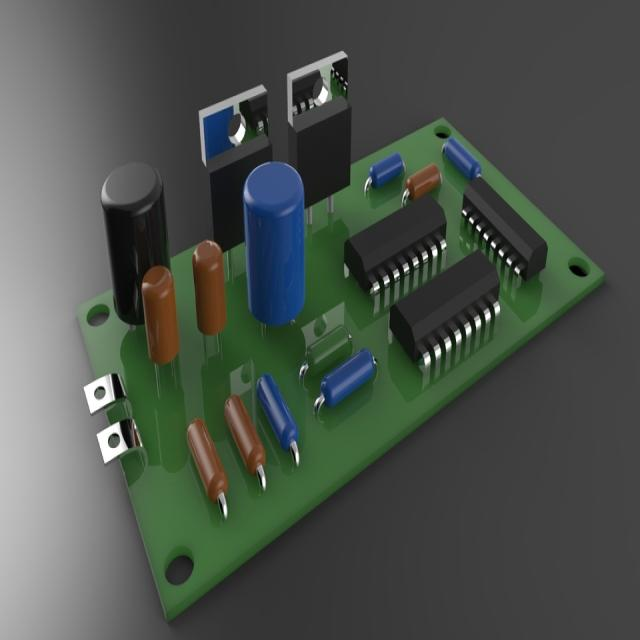pcb: (76, 113, 605, 622), (197, 48, 352, 252), (388, 248, 501, 388), (197, 82, 273, 252), (99, 159, 172, 327), (286, 49, 351, 222), (343, 191, 448, 296), (459, 174, 547, 281), (198, 81, 269, 170), (286, 50, 349, 129)
